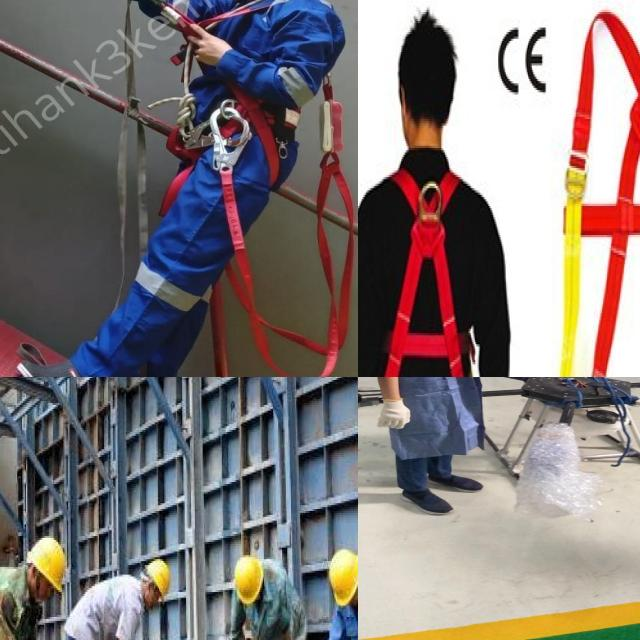Harness: (165, 0, 304, 190), (379, 175, 481, 377)
hand_glove: (371, 395, 415, 430)
head_helmet: (22, 534, 74, 595), (324, 545, 358, 607), (231, 553, 266, 603), (144, 556, 174, 605)
person: (358, 377, 506, 521), (60, 552, 167, 640), (221, 547, 318, 640), (0, 537, 74, 640)
shoes: (396, 484, 456, 517), (422, 470, 486, 494)
